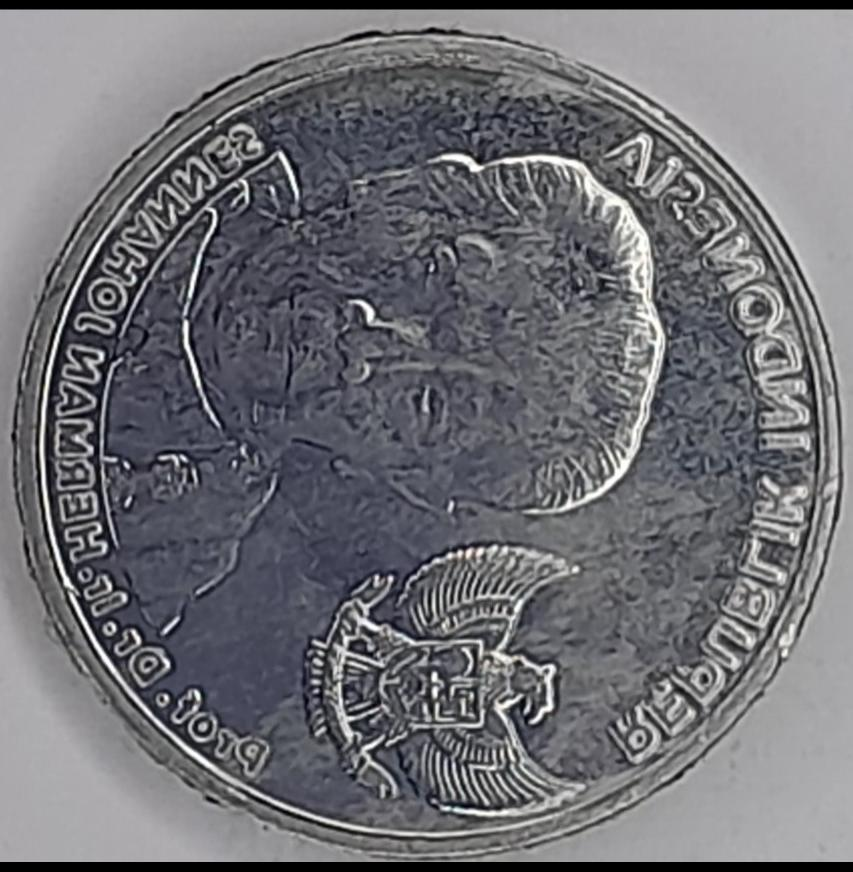coin_100_e2016: (6, 23, 848, 858)
